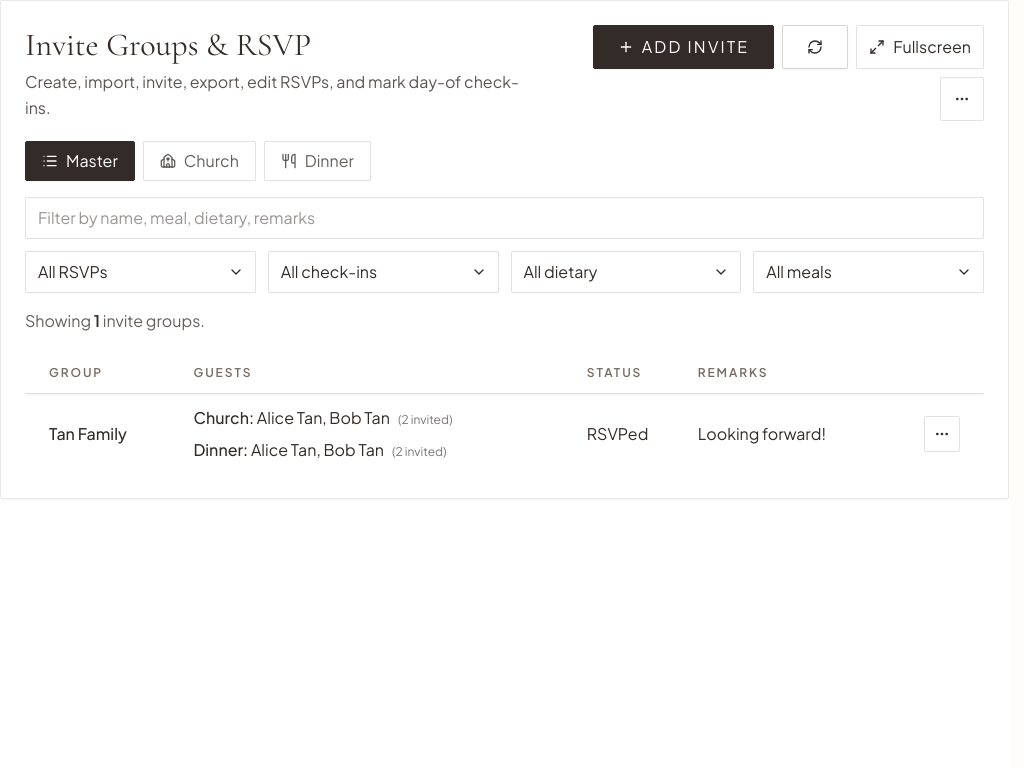
Test case: InviteGroupsSection › handles entering and exiting fullscreen mode
Note: Enter fullscreen
Click the button with aria-label "fullscreen table".
click(920, 47)  # box [856,25,984,69]
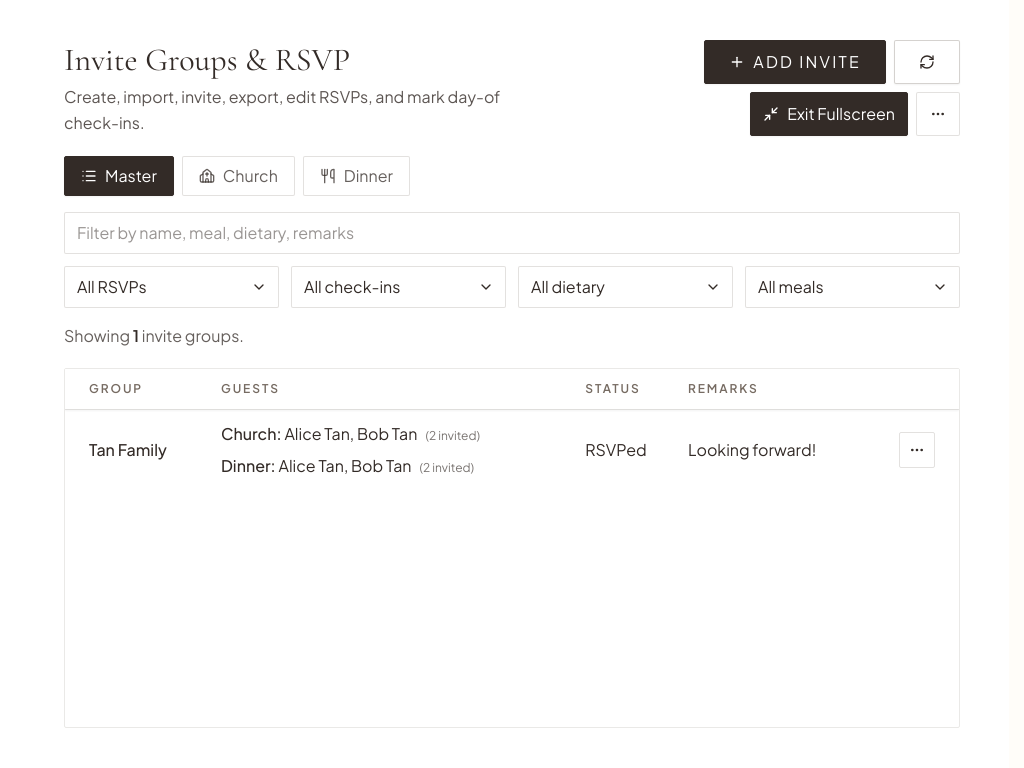
Expected: the button "Exit Fullscreen" is shown, [750,92,908,136]
Note: Press Escape to exit fullscreen
Press Escape
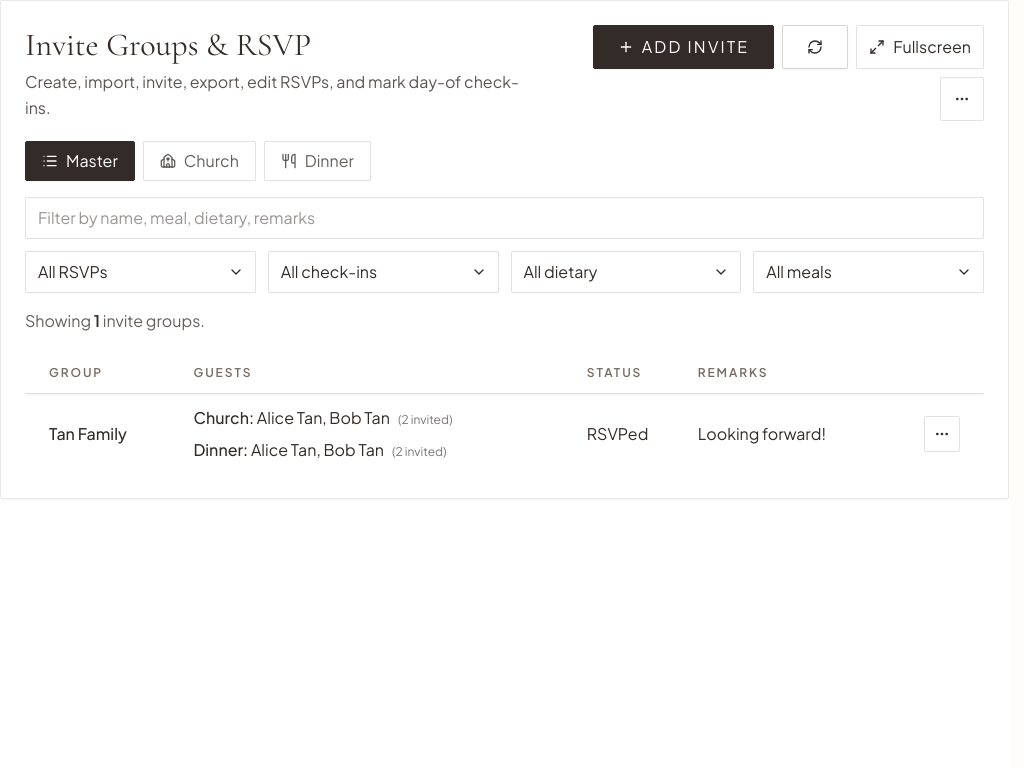
Expected: the button with aria-label "fullscreen table" is shown, [856,25,984,69]
